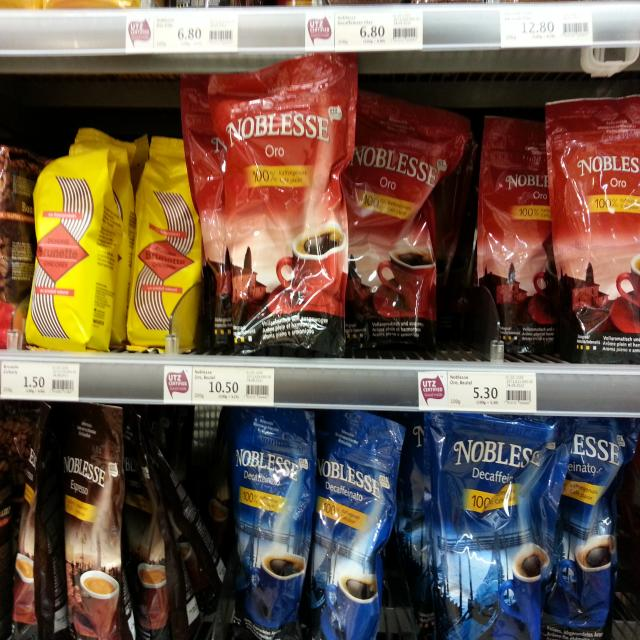Coffee: (180, 68, 358, 354), (420, 408, 559, 640), (356, 86, 468, 360), (21, 410, 130, 640), (547, 100, 640, 348), (478, 114, 570, 364), (314, 408, 402, 640), (28, 146, 118, 354), (234, 404, 310, 640), (557, 422, 640, 632), (128, 130, 200, 353)
